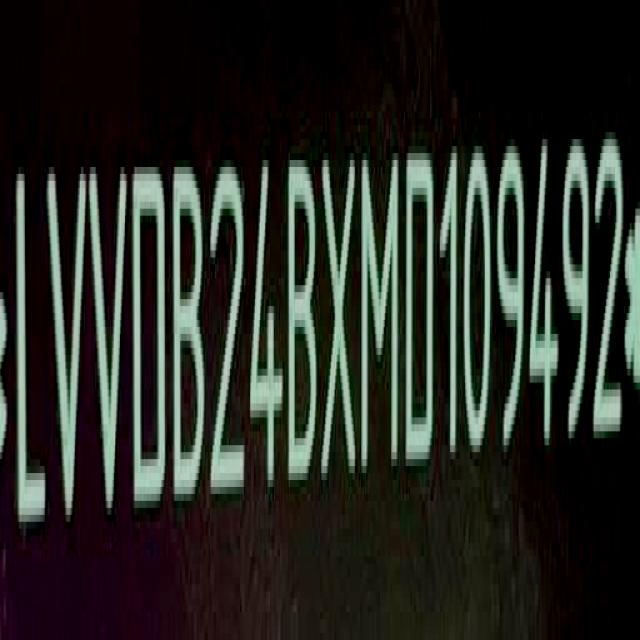0: (460, 147, 491, 469)
1: (439, 146, 458, 473)
2: (210, 166, 249, 512), (596, 137, 626, 455)
4: (251, 159, 285, 508), (529, 139, 560, 459)
9: (498, 145, 528, 466), (563, 138, 591, 458)
B: (173, 164, 210, 515), (291, 154, 322, 495)
D: (130, 158, 167, 520), (408, 147, 438, 475)
L: (14, 164, 48, 546)
M: (361, 148, 402, 486)
V: (45, 160, 87, 536), (91, 157, 130, 532)
X: (321, 148, 358, 492)
